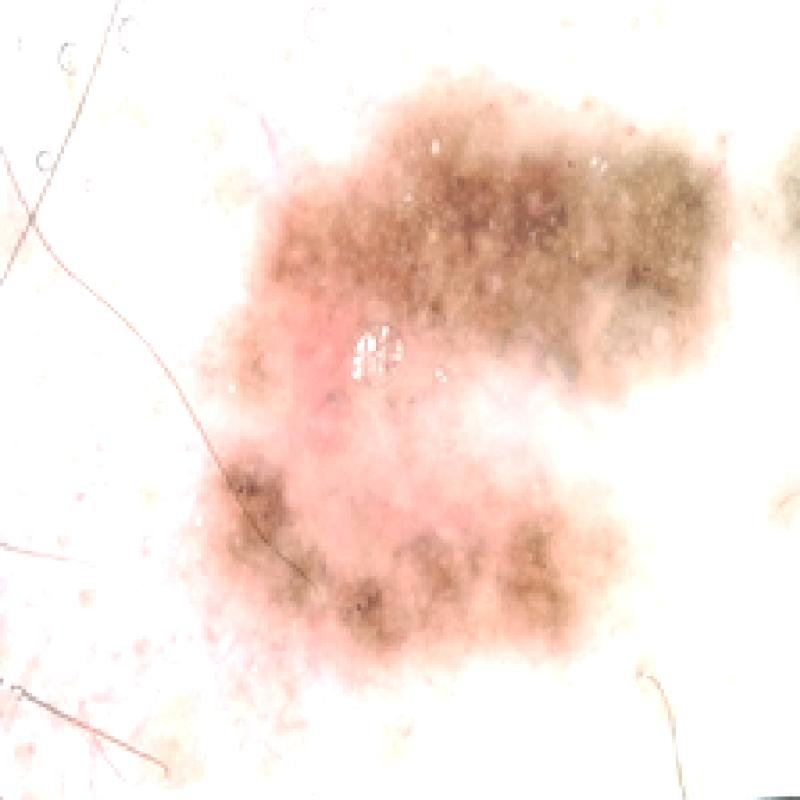malignant: (174, 106, 726, 693)
